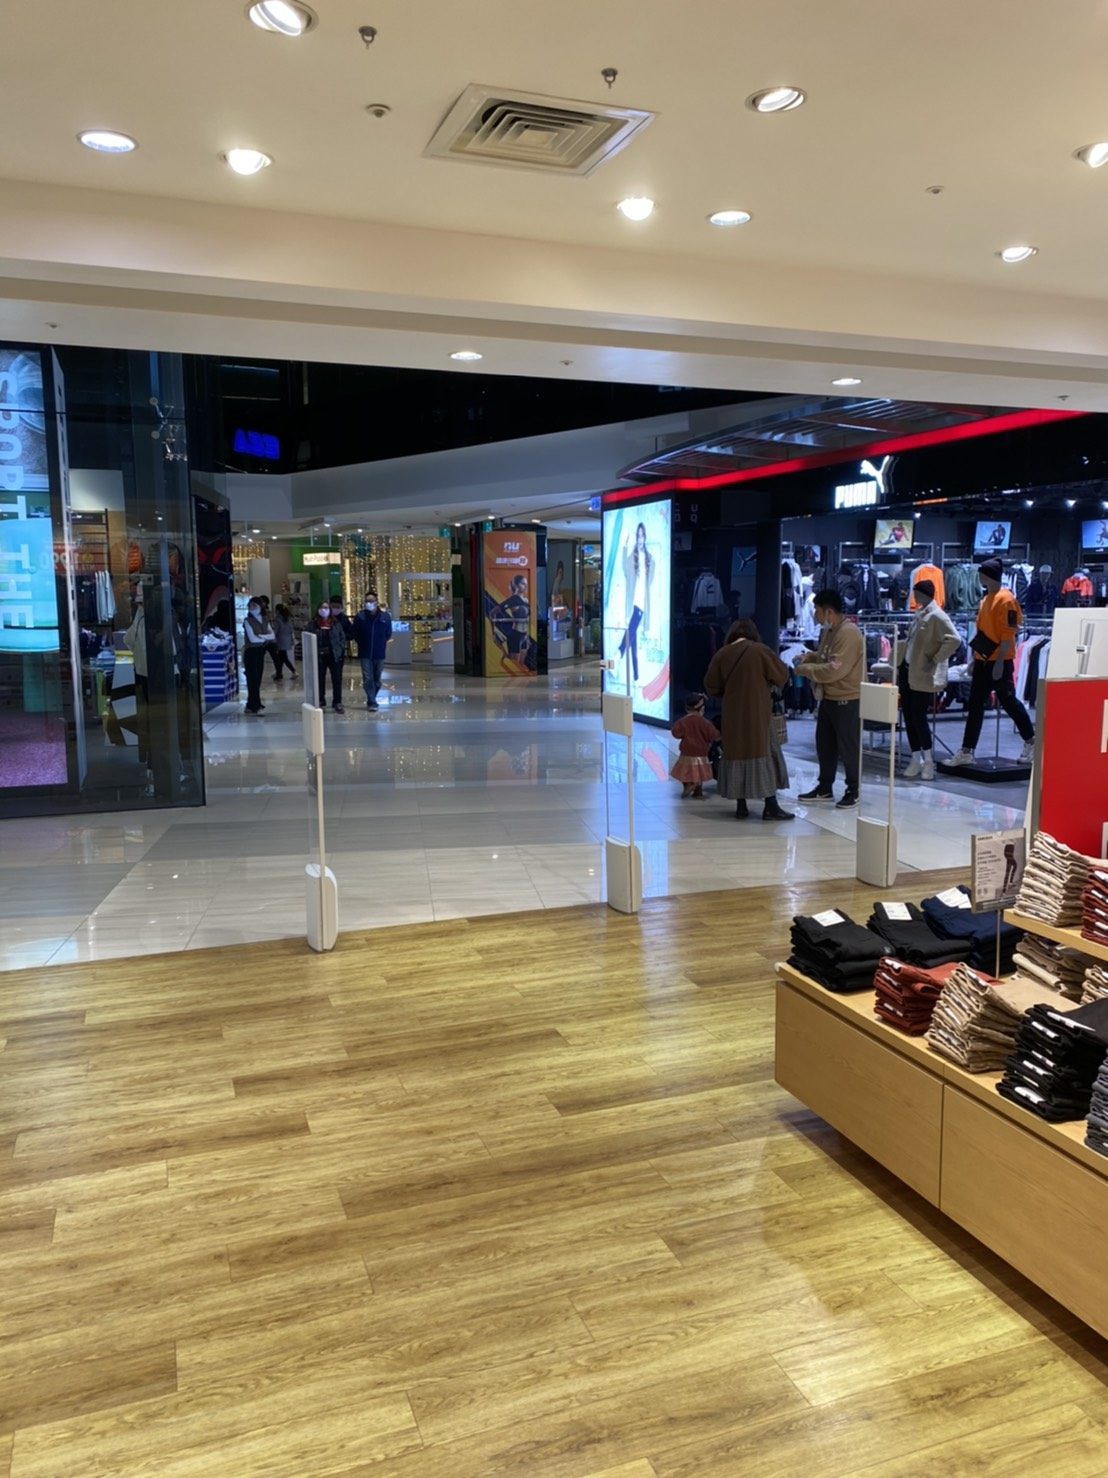people: (702, 616, 797, 828), (797, 590, 862, 807), (967, 554, 1033, 759), (902, 585, 947, 757), (350, 593, 395, 702), (307, 604, 340, 693), (243, 593, 267, 681)
